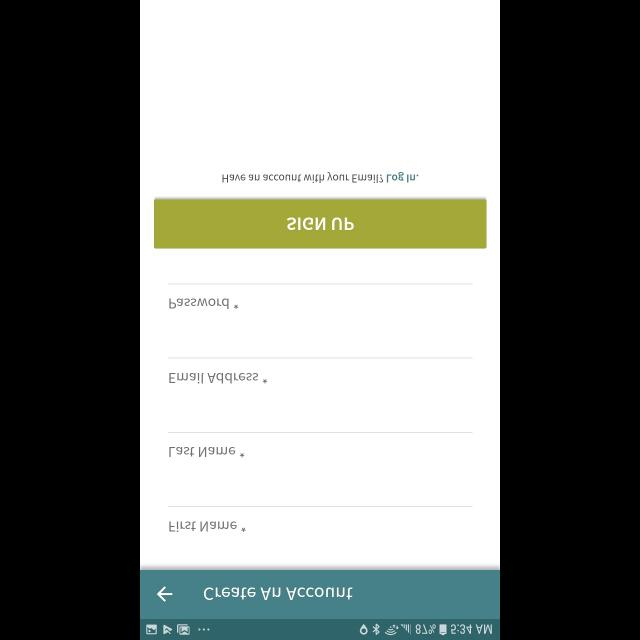icon: (157, 586, 173, 602)
input: (168, 356, 472, 384), (168, 504, 472, 532), (168, 283, 472, 309), (168, 431, 472, 457)
text: (204, 586, 352, 600), (223, 172, 419, 182), (168, 372, 268, 383), (170, 520, 246, 532), (169, 298, 239, 310), (169, 447, 245, 458)
textbutton: (154, 200, 486, 248)
uppertaskbar: (140, 618, 500, 640)
